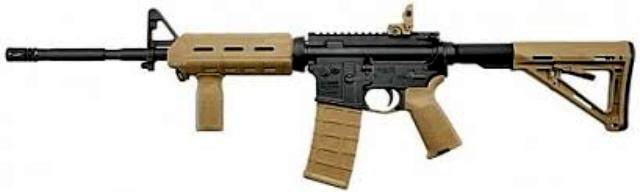rifle: (2, 0, 640, 192)
